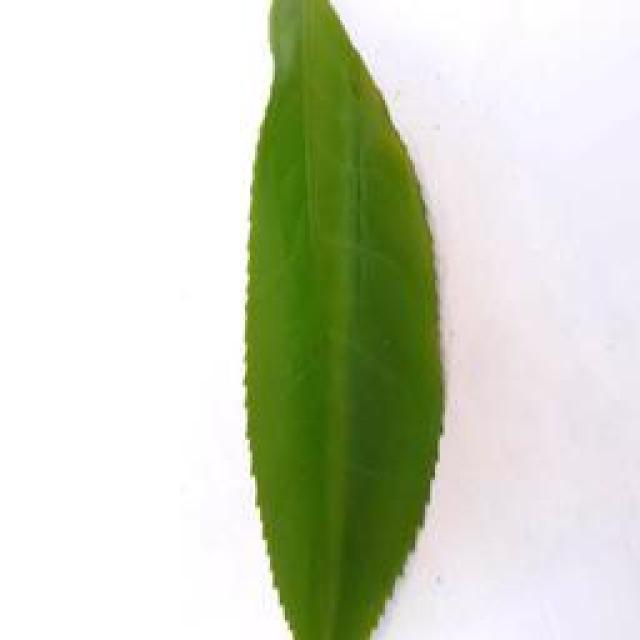Healthy: (218, 0, 466, 640)
